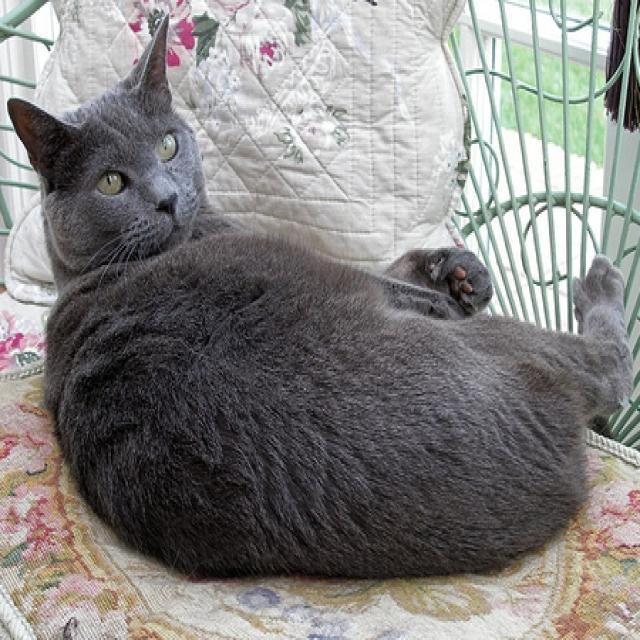Russian Blue: (5, 9, 638, 586)
